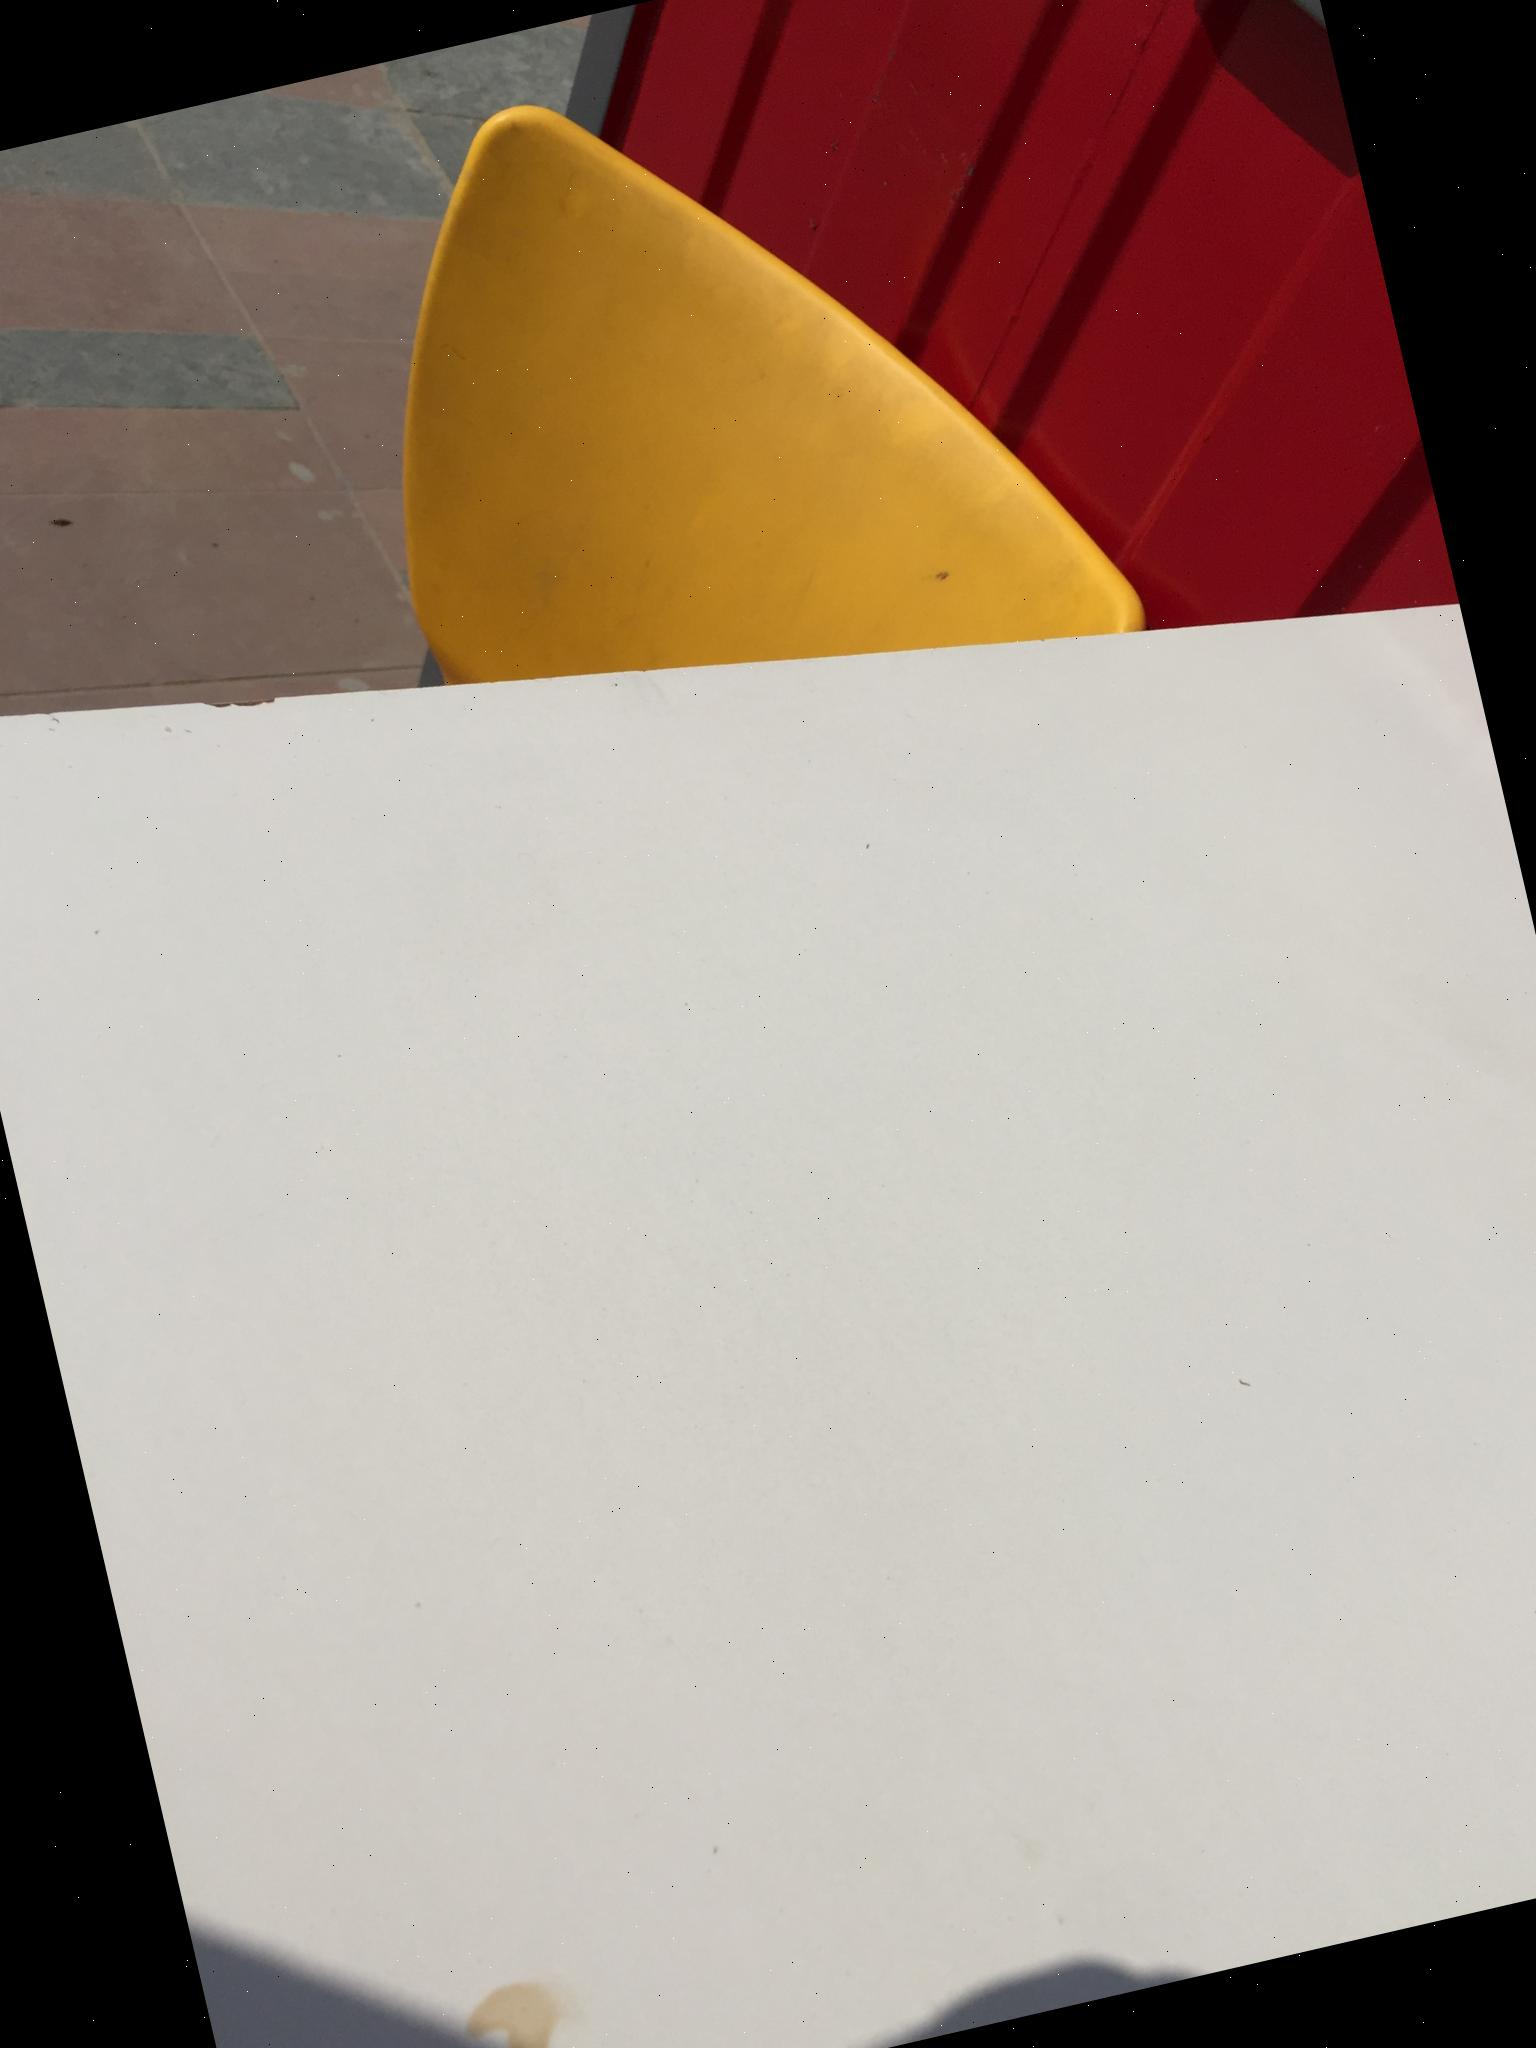chair: (303, 0, 1150, 790)
